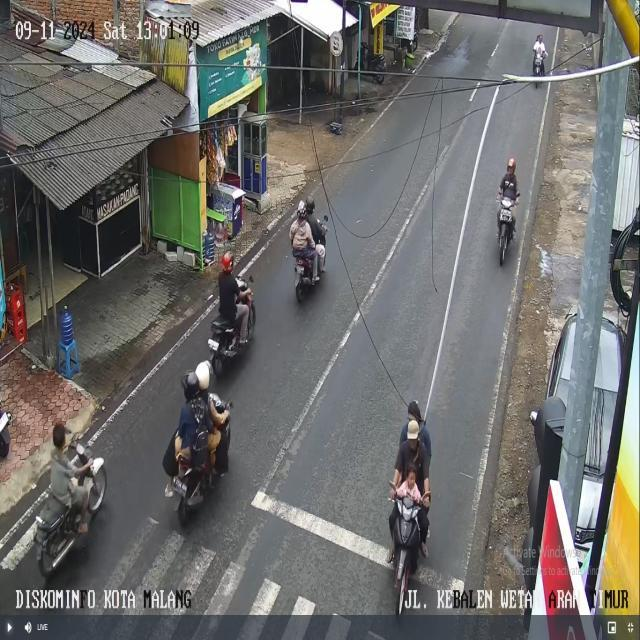Helmet: (182, 372, 198, 400), (195, 361, 210, 390), (209, 393, 226, 414), (221, 251, 233, 272), (297, 201, 307, 219), (305, 196, 315, 214), (507, 158, 515, 171)
Number Plate: (173, 477, 186, 496), (500, 211, 511, 221), (208, 339, 218, 350), (296, 266, 303, 274)
